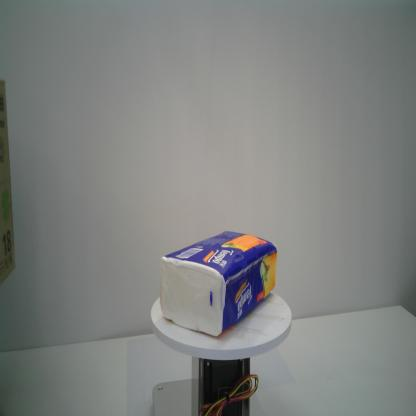Tissue: (158, 229, 279, 340)
